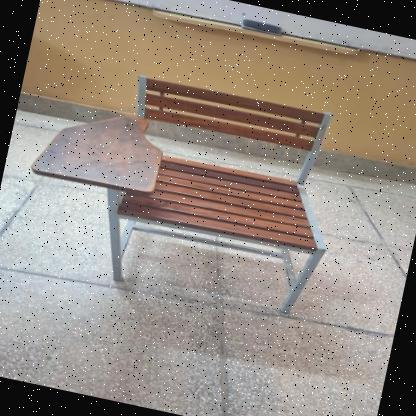chair: (6, 41, 366, 334)
